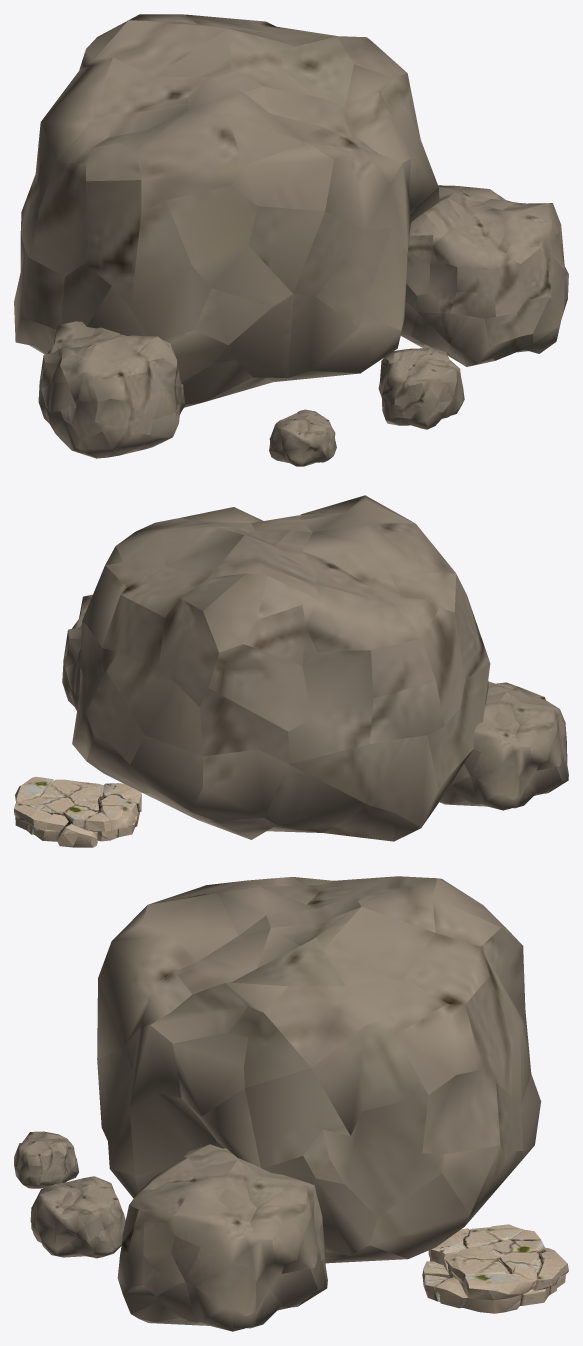
The model's file is BoulderCluster.lod2.glb.
The picture shows the model from 3 angles, top to bottom: view 1: azimuth 30°, elevation 25°; view 2: azimuth 150°, elevation 25°; view 3: azimuth 270°, elevation 25°; orthographic projection. The views are drawn at different scales.
Bounding box in the file's own units: 3.94 × 2.18 × 3.48.
Materials: 2 (2 with a texture image).
